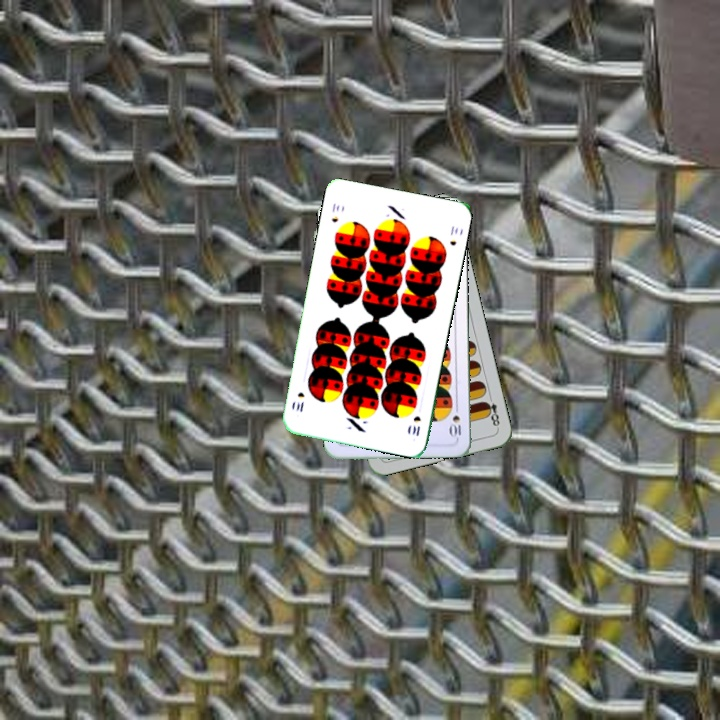E8: (480, 391, 502, 431)
S10: (447, 400, 463, 441), (408, 412, 423, 439), (328, 199, 342, 225)
